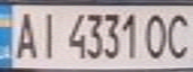1: (121, 9, 142, 60)
3: (84, 9, 106, 61), (103, 10, 124, 60)
4: (63, 9, 87, 60)
A: (9, 7, 42, 61)
C: (163, 9, 193, 61)
I: (33, 8, 60, 61)
O: (142, 9, 172, 61)
